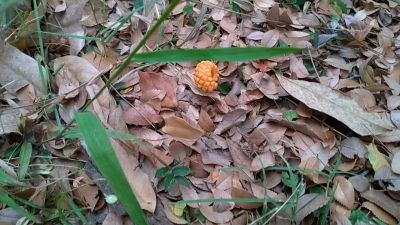eggs: (190, 57, 221, 91)
